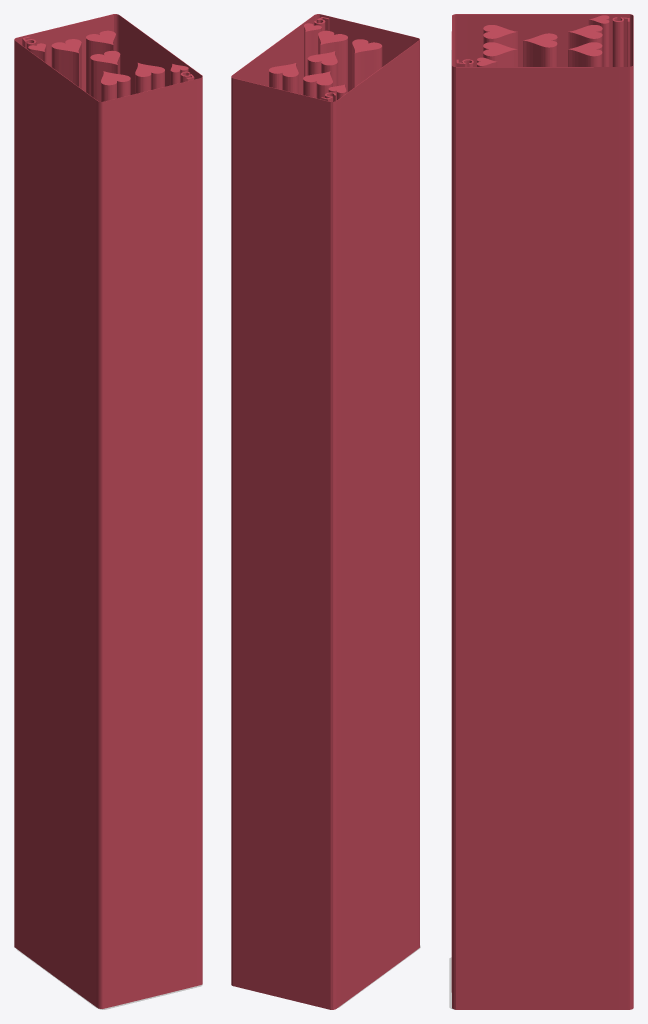
File: 5_hearts.glb
3 views of the same model, side by side, from view 1: azimuth 30°, elevation 25°; view 2: azimuth 150°, elevation 25°; view 3: azimuth 270°, elevation 25° (orthographic). The views are drawn at different scales.
Visible parts, largest first — view 1: Mesh_Mesh_head_geo.001_lambert2SG.001; view 2: Mesh_Mesh_head_geo.001_lambert2SG.001; view 3: Mesh_Mesh_head_geo.001_lambert2SG.001.
Boxes of the visible parts, bbox=[...] form: Mesh_Mesh_head_geo.001_lambert2SG.001: bbox=[14, 14, 202, 1009]; Mesh_Mesh_head_geo.001_lambert2SG.001: bbox=[231, 14, 420, 1009]; Mesh_Mesh_head_geo.001_lambert2SG.001: bbox=[449, 14, 633, 1009].
Size of the model in its own units: 1.22 by 10 by 1.78.
